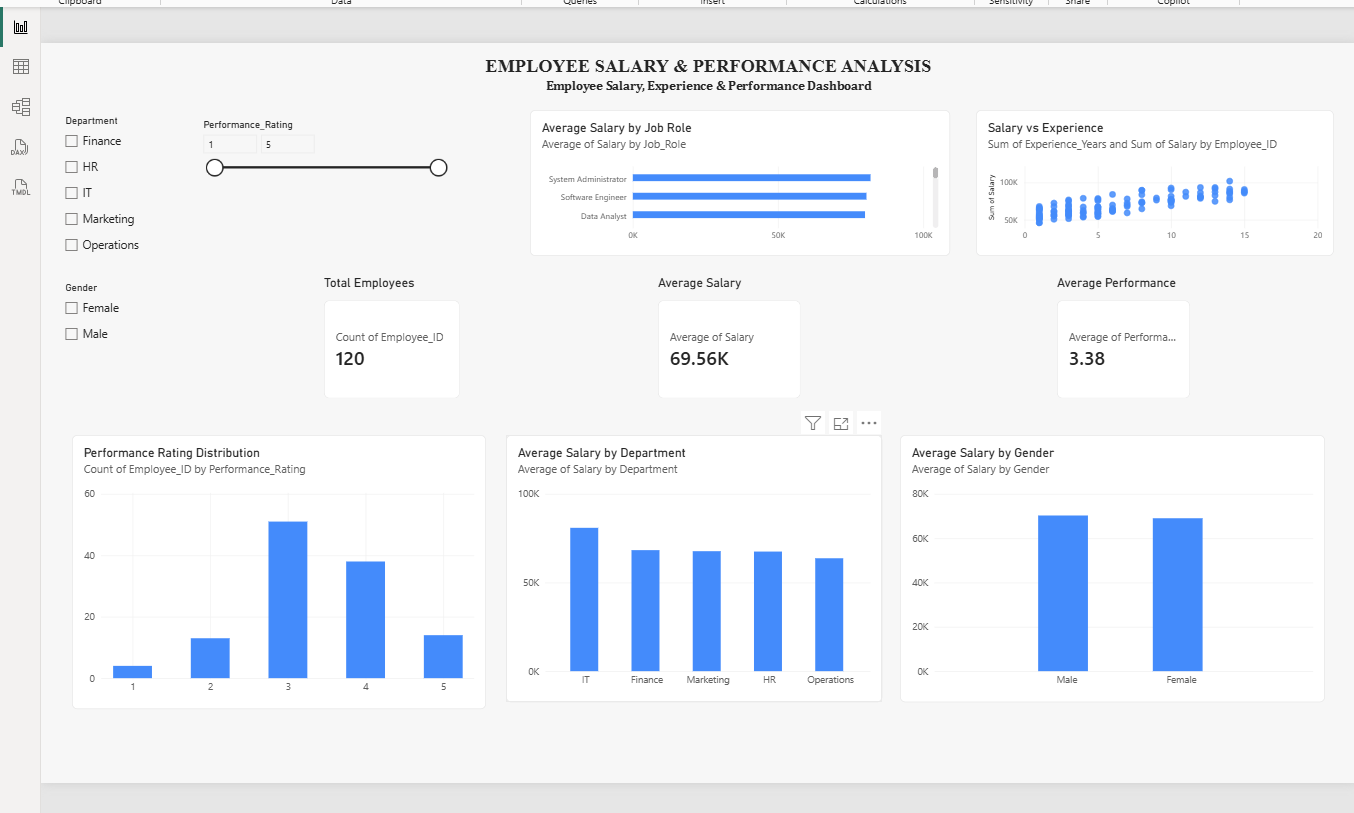

The dashboard page shown, as its layout file describes it:
{"tool":"powerbi","page":{"name":"Page 1","canvas":[1920,1080],"ordinal":0},"visuals":[{"type":"clusteredColumnChart","title":"Average Salary by Department","fields":{"Category":["employee_salary_performance.Department"],"Y":["Avg(employee_salary_performance.Salary)"]},"box":[678.4,571.9,548.6,389.5],"z":0},{"type":"clusteredColumnChart","title":"Performance Rating Distribution","fields":{"Category":["employee_salary_performance.Performance_Rating"],"Y":["CountNonNull(employee_salary_performance.Employee_ID)"]},"box":[45.2,571.9,604,399.8],"z":1},{"type":"clusteredBarChart","title":"Average Salary by Job Role","fields":{"Category":["employee_salary_performance.Job_Role"],"Y":["Avg(employee_salary_performance.Salary)"]},"box":[713.4,97.8,612.8,213],"z":2},{"type":"scatterChart","title":"Salary vs Experience","fields":{"Category":["employee_salary_performance.Employee_ID"],"X":["Sum(employee_salary_performance.Experience_Years)"],"Y":["Sum(employee_salary_performance.Salary)"]},"box":[1364.1,97.8,522.3,213],"z":3},{"type":"clusteredColumnChart","title":"Average Salary by Gender","fields":{"Category":["employee_salary_performance.Gender"],"Y":["Avg(employee_salary_performance.Salary)"]},"box":[1253.3,571.9,620.1,389.5],"z":4},{"type":"textbox","box":[27.7,19,1892.3,59.8],"z":5},{"type":"cardVisual","title":"Average Salary","fields":{"Data":["Avg(employee_salary_performance.Salary)"]},"box":[900.2,338.5,208.6,180.9],"z":6},{"type":"cardVisual","title":"Average Performance","fields":{"Data":["Avg(employee_salary_performance.Performance_Rating)"]},"box":[1482.3,338.5,194,180.9],"z":7},{"type":"cardVisual","title":"Total Employees","fields":{"Data":["CountNonNull(employee_salary_performance.Employee_ID)"]},"box":[412.9,338.5,198.4,180.9],"z":8},{"type":"slicer","fields":{"Values":["employee_salary_performance.Department"]},"box":[27.7,105,182.4,211.6],"z":9},{"type":"slicer","fields":{"Values":["employee_salary_performance.Gender"]},"box":[27.7,348.7,140.1,170.7],"z":10},{"type":"slicer","fields":{"Values":["employee_salary_performance.Performance_Rating"]},"box":[229.1,110.9,366.2,199.9],"z":11}]}

Visuals, with their boxes on the page's 1920x1080 design canvas (x1, y1, x2, y2). These are canvas units, not pixel positions in the 1354x813 screenshot, which may show the page scaled, cropped or inside an application window:
"Average Salary by Department" clusteredColumnChart: locate(678, 572, 1227, 961)
"Performance Rating Distribution" clusteredColumnChart: locate(45, 572, 649, 972)
"Average Salary by Job Role" clusteredBarChart: locate(713, 98, 1326, 311)
"Salary vs Experience" scatterChart: locate(1364, 98, 1886, 311)
"Average Salary by Gender" clusteredColumnChart: locate(1253, 572, 1873, 961)
textbox: locate(28, 19, 1920, 79)
"Average Salary" cardVisual: locate(900, 338, 1109, 519)
"Average Performance" cardVisual: locate(1482, 338, 1676, 519)
"Total Employees" cardVisual: locate(413, 338, 611, 519)
slicer - employee_salary_performance.Department: locate(28, 105, 210, 317)
slicer - employee_salary_performance.Gender: locate(28, 349, 168, 519)
slicer - employee_salary_performance.Performance_Rating: locate(229, 111, 595, 311)
